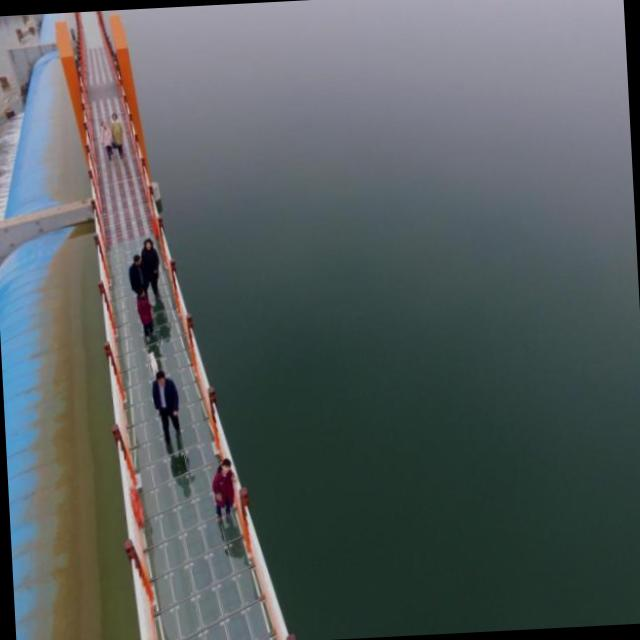person: (150, 370, 182, 445), (209, 457, 242, 526), (126, 253, 157, 320), (138, 238, 162, 302)
